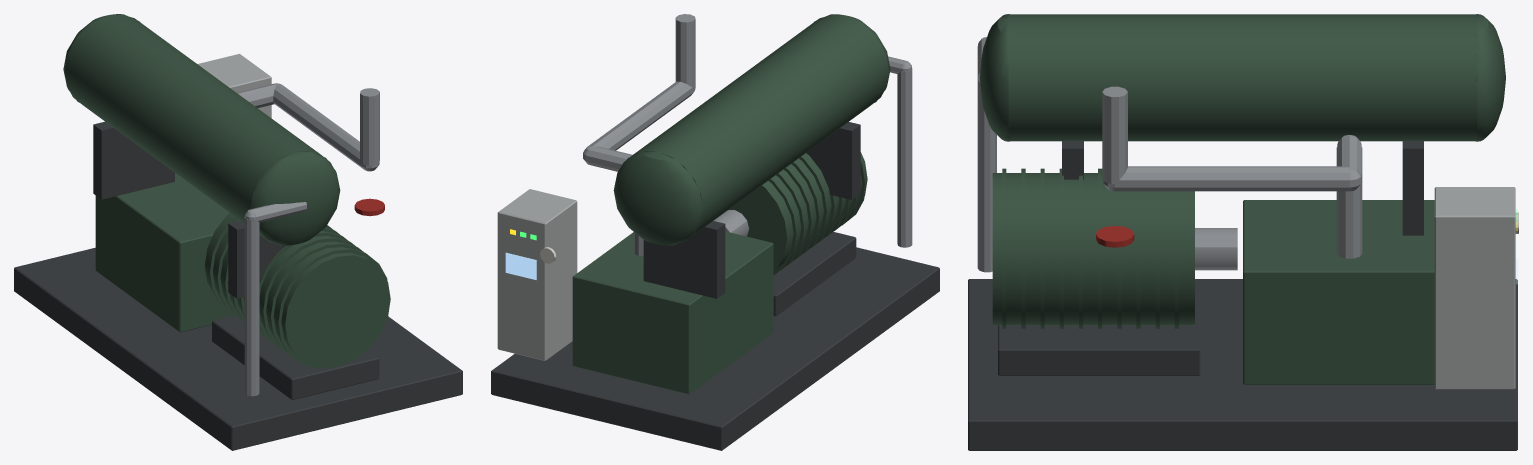
Rendered from prop_screw_compressor.glb.
3 renders of one model, left to right at view 1: azimuth 30°, elevation 25°; view 2: azimuth 150°, elevation 25°; view 3: azimuth 270°, elevation 25°, orthographic. The views are drawn at different scales.
Visible parts, largest first — view 1: Compressor; view 2: Compressor; view 3: Compressor.
Part boxes in pixels (<box>): Compressor: <box>14,14,462,450</box>; Compressor: <box>491,14,939,450</box>; Compressor: <box>968,14,1518,450</box>.
Size of what is drawn, in the model's own units: 1.58 by 1.75 by 2.58.
